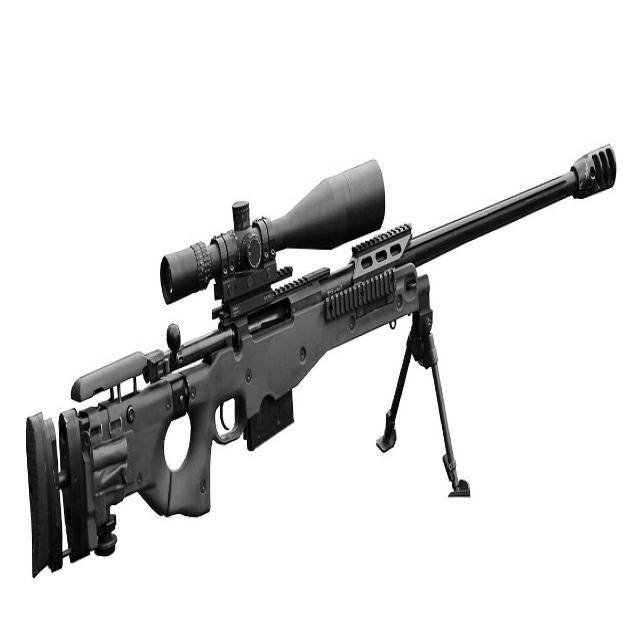Sniper: (23, 149, 608, 509)
